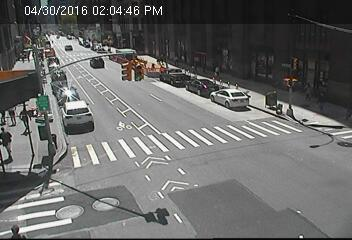neg: (259, 152, 277, 176), (214, 171, 231, 193), (137, 14, 151, 34), (59, 166, 73, 186), (331, 25, 345, 44), (194, 78, 207, 96), (302, 210, 315, 228), (97, 159, 110, 176), (4, 22, 17, 39), (156, 76, 168, 93), (91, 200, 103, 217), (138, 74, 150, 90), (232, 89, 244, 105), (202, 10, 213, 26), (78, 102, 89, 117), (113, 58, 124, 73), (49, 42, 60, 57), (106, 124, 116, 138), (25, 12, 35, 26), (265, 82, 275, 95), (181, 132, 190, 144), (56, 78, 65, 90), (288, 20, 296, 32), (70, 19, 78, 30), (288, 57, 296, 68), (268, 46, 275, 56), (89, 54, 93, 61), (108, 27, 112, 32)
pos: (297, 77, 321, 108), (13, 103, 34, 131), (313, 88, 329, 110), (9, 222, 20, 237), (211, 63, 222, 78), (157, 52, 166, 65), (23, 52, 31, 63), (19, 53, 26, 62)
